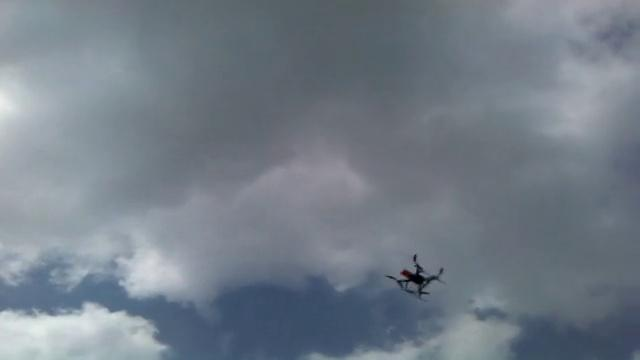drone: (382, 252, 447, 301)
